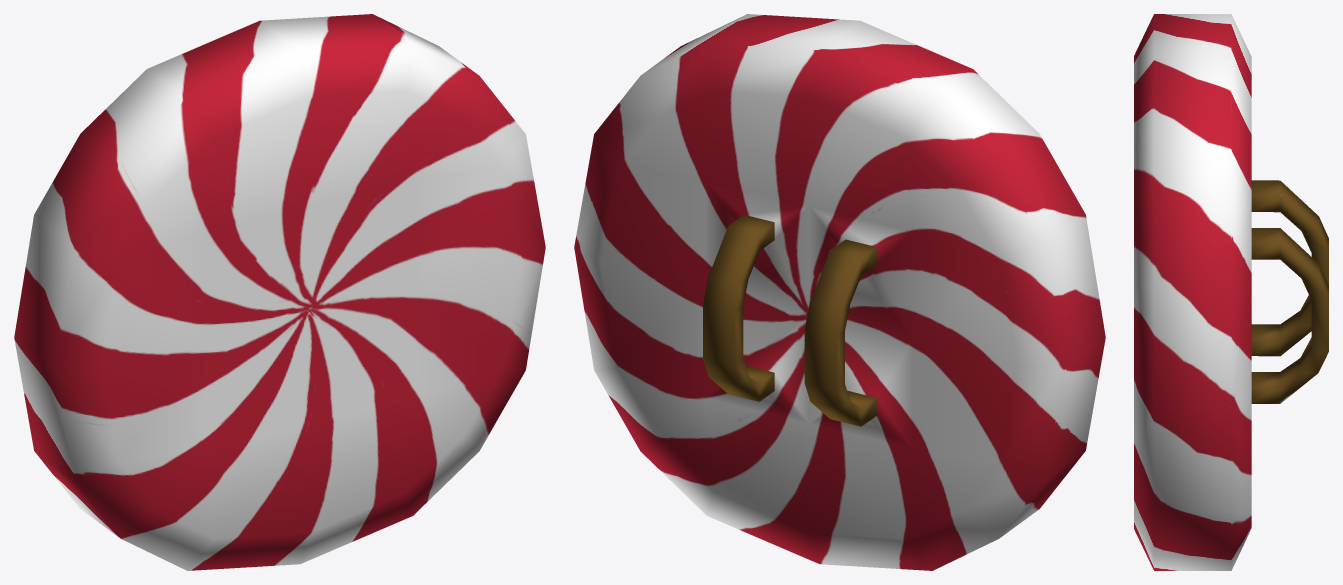
Rendered from Mint Shield.FBX.
The picture shows the model from 3 angles, left to right: view 1: azimuth 30°, elevation 25°; view 2: azimuth 150°, elevation 25°; view 3: azimuth 270°, elevation 25°; orthographic projection. The views are drawn at different scales.
Visible parts, largest first — view 1: default; view 2: default; view 3: default.
Part boxes in pixels (x1=…): default: x1=14, y1=14, x2=545, y2=570; default: x1=574, y1=14, x2=1105, y2=570; default: x1=1134, y1=14, x2=1328, y2=570.
Size of the model in its own units: 94.75 by 34.06 by 94.75.
Materials: 1 (1 with a texture image).
